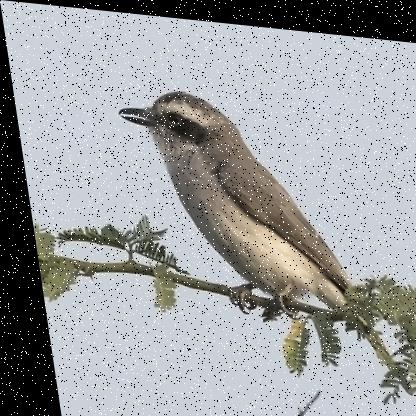Burung: (111, 82, 404, 388)
